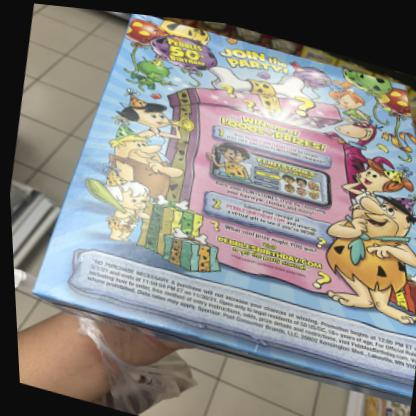cereal box: (9, 0, 415, 401)
